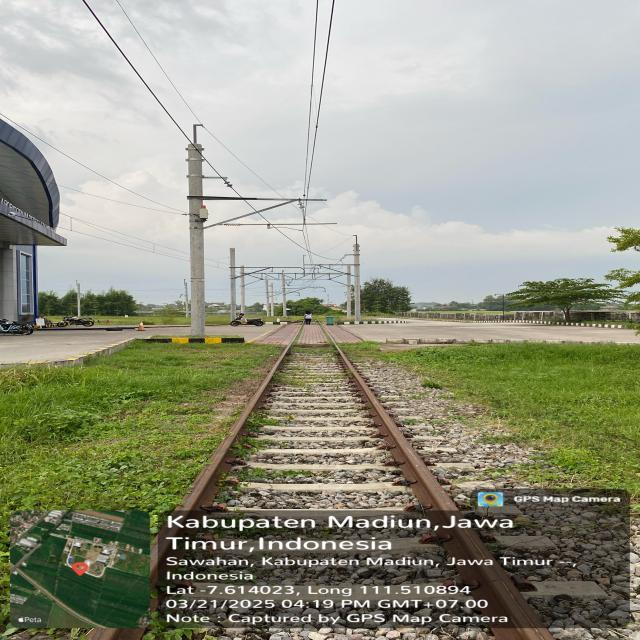rail-detection: (338, 349, 458, 522), (180, 344, 290, 514), (460, 560, 550, 640), (446, 530, 490, 560), (151, 530, 165, 581)
